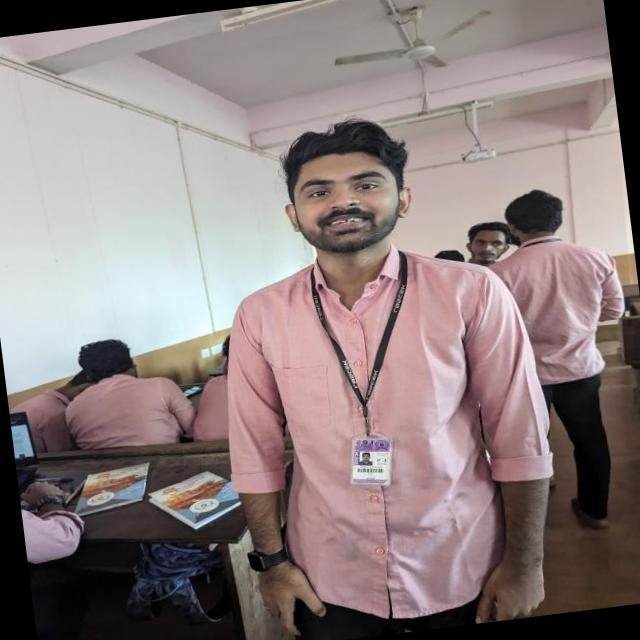id_card: (312, 247, 429, 490)
